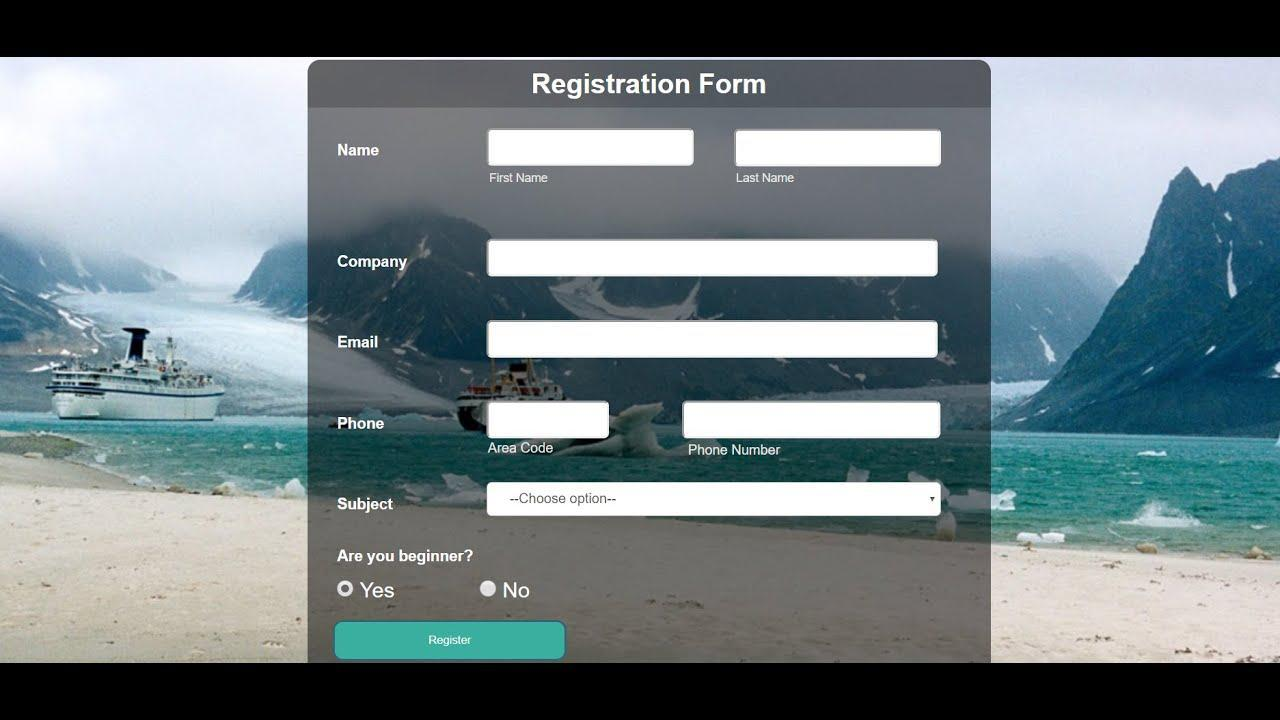button: (335, 620, 566, 662)
dropdown: (488, 482, 941, 517)
input: (487, 242, 941, 282), (488, 322, 939, 359), (682, 398, 945, 438), (736, 127, 945, 168), (488, 131, 696, 166), (489, 399, 612, 440)
label: (334, 545, 486, 571), (332, 491, 404, 525), (683, 442, 788, 465), (331, 251, 414, 276), (324, 327, 387, 358), (336, 409, 391, 443), (333, 135, 385, 167), (733, 171, 802, 195), (483, 170, 556, 191), (487, 440, 563, 459), (498, 579, 536, 604), (360, 582, 404, 602)
radio: (478, 577, 499, 603), (335, 579, 358, 600)
